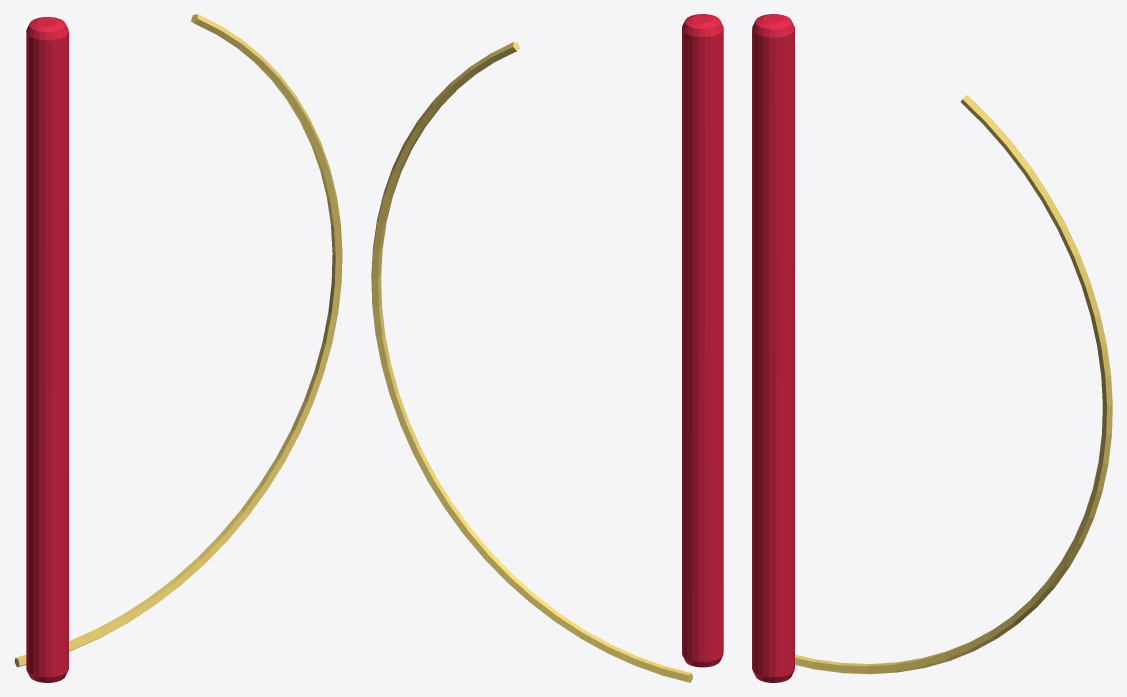
The model's file is PowerPole.fbx.
3 renders of one model, left to right at view 1: azimuth 30°, elevation 25°; view 2: azimuth 150°, elevation 25°; view 3: azimuth 330°, elevation 25°, orthographic. The views are drawn at different scales.
Parts seen in each view (by area): view 1: Handle, PowerPole__VFX__gold_energy; view 2: Handle, PowerPole__VFX__gold_energy; view 3: Handle, PowerPole__VFX__gold_energy.
Boxes of the visible parts, bbox=[...] form: Handle: bbox=[26, 17, 68, 682]; PowerPole__VFX__gold_energy: bbox=[14, 14, 342, 667]; Handle: bbox=[682, 14, 723, 667]; PowerPole__VFX__gold_energy: bbox=[371, 42, 692, 682]; Handle: bbox=[752, 14, 794, 682]; PowerPole__VFX__gold_energy: bbox=[795, 95, 1112, 674].
Size of the model in its own units: 1.8 by 3.39 by 0.3238.
2 materials, 2 textured.
